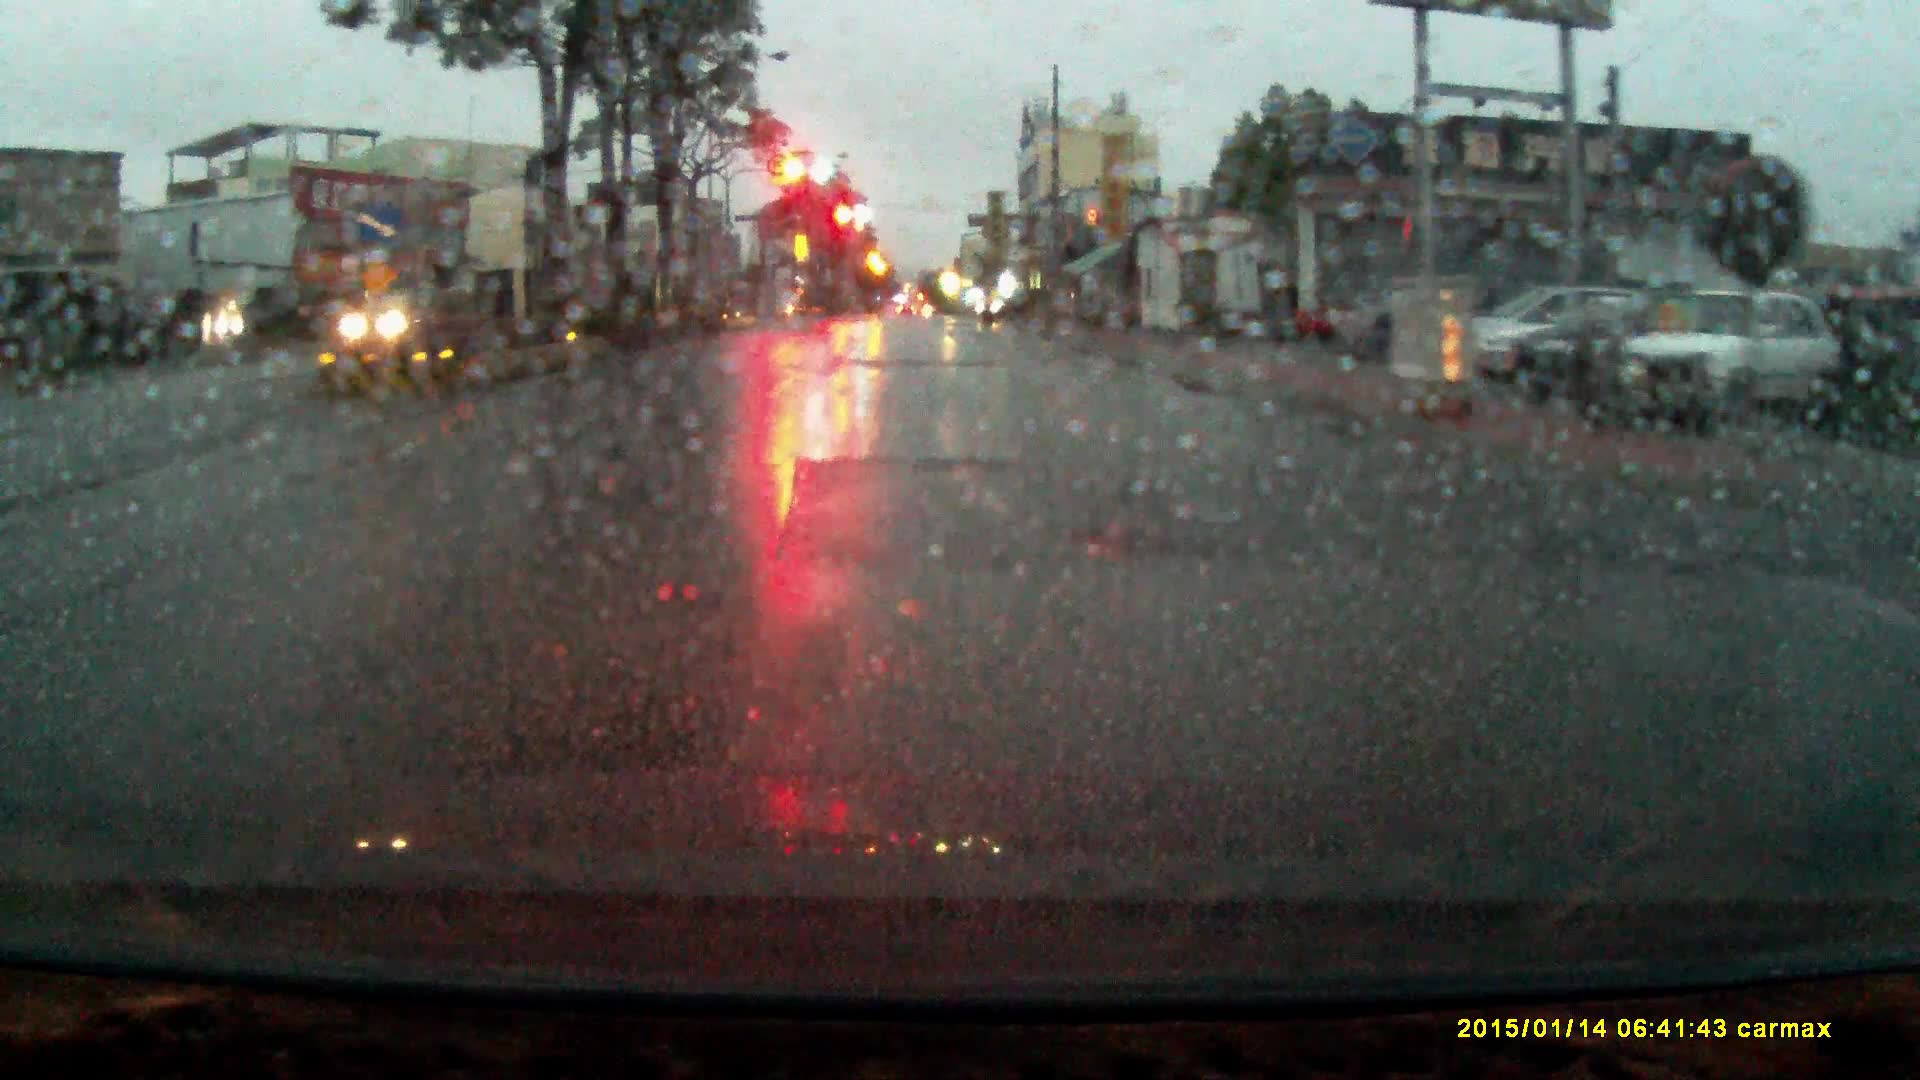vehicle: (1607, 289, 1830, 422), (1490, 291, 1701, 397), (1472, 291, 1630, 375), (339, 291, 438, 356), (972, 289, 1051, 326)
